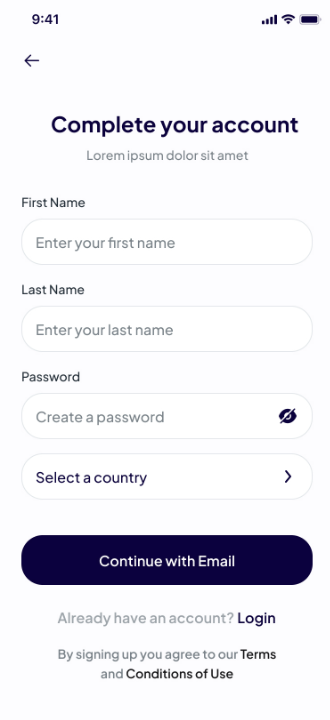Input: (19, 450, 316, 503), (18, 216, 314, 267), (19, 302, 314, 353), (19, 389, 314, 440)
